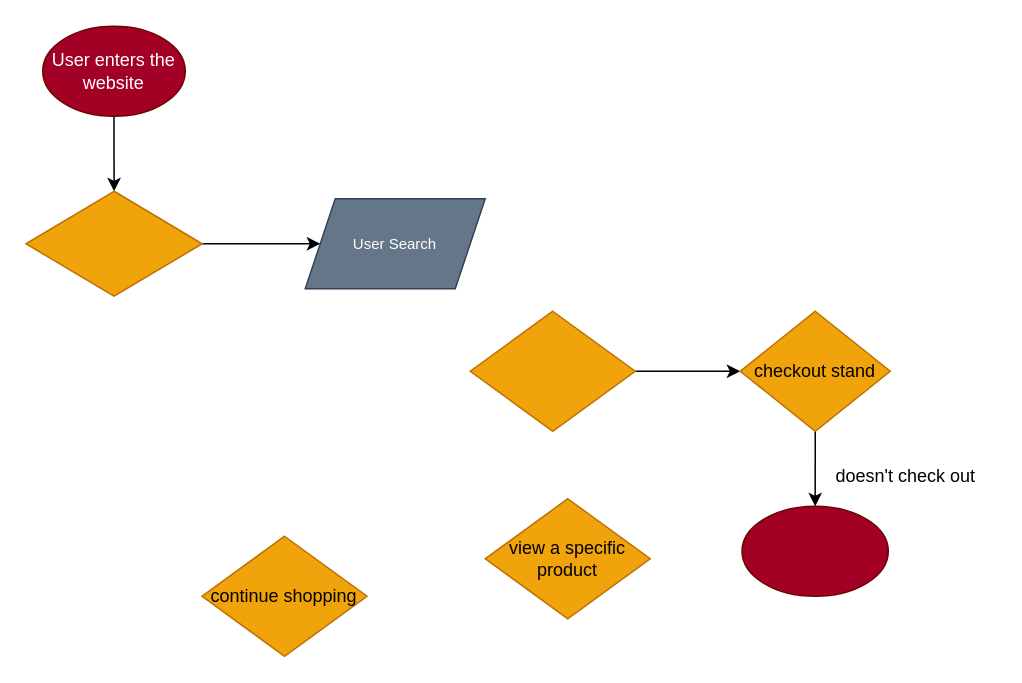
Image size: 1022x683. Some labels were removed from this diagram. Each missing label, with the centre of its shape:
"shopping decision" belongs at point (552, 370).
"User leaves the website" belongs at point (814, 550).
"what to do on website" belongs at point (113, 243).
